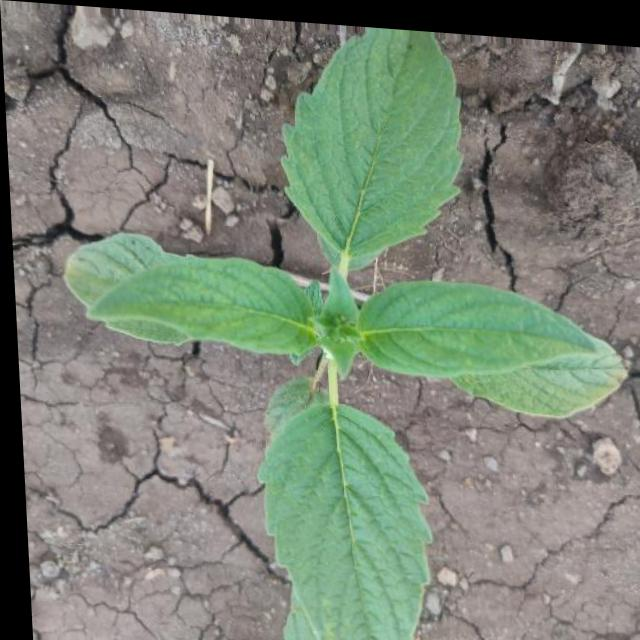crop: (30, 3, 640, 640)
